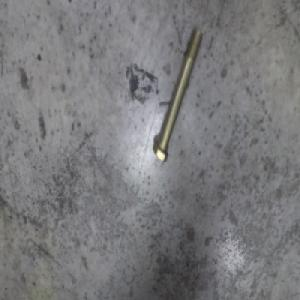Bolt: (153, 30, 202, 161)
